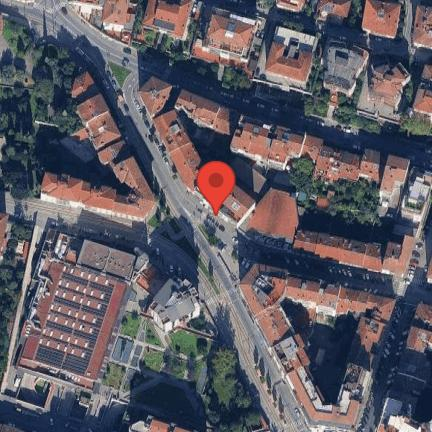area_open: (179, 111, 293, 199), (278, 296, 366, 408), (0, 369, 133, 432), (143, 199, 223, 295), (39, 127, 127, 195), (307, 209, 411, 244), (203, 211, 251, 285), (390, 353, 430, 416), (235, 222, 287, 251), (256, 81, 302, 111), (361, 36, 407, 58)
built: (238, 262, 397, 430), (14, 228, 135, 392), (42, 72, 158, 220), (293, 166, 432, 279), (231, 115, 381, 186), (124, 254, 205, 340), (190, 5, 266, 74), (154, 110, 201, 191), (194, 168, 256, 224), (266, 23, 318, 82), (174, 88, 230, 136), (250, 183, 298, 239), (138, 0, 196, 44), (322, 39, 367, 94), (363, 63, 409, 113), (376, 399, 432, 432), (379, 156, 411, 206), (361, 1, 401, 38), (123, 412, 197, 432), (138, 77, 173, 118), (100, 15, 135, 45), (100, 0, 130, 32), (413, 3, 432, 51), (413, 66, 432, 112), (404, 326, 431, 354), (71, 0, 101, 22), (317, 0, 351, 17), (0, 212, 12, 260), (413, 300, 432, 322), (276, 0, 307, 13), (316, 191, 335, 208), (245, 419, 267, 432), (14, 239, 28, 259), (422, 257, 432, 282)
vegetation_low: (132, 36, 431, 141), (97, 291, 264, 432), (1, 13, 82, 200), (291, 159, 382, 224), (0, 224, 34, 389), (347, 1, 362, 27)
